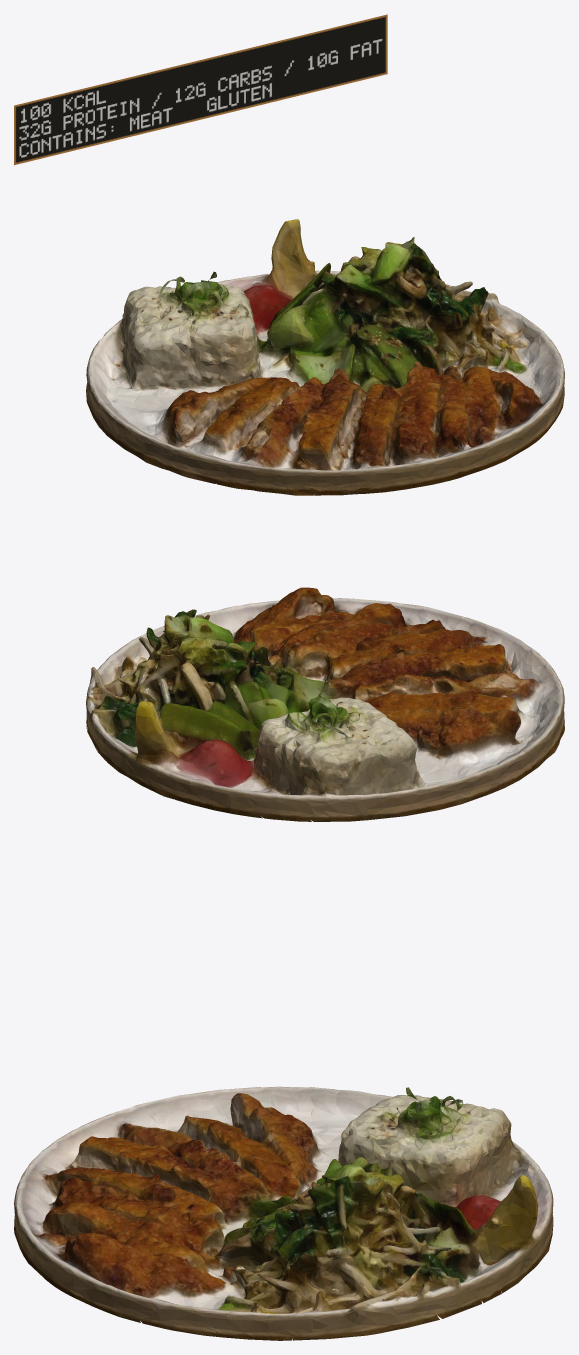
3 views of the same model, one above another, from view 1: azimuth 30°, elevation 25°; view 2: azimuth 150°, elevation 25°; view 3: azimuth 270°, elevation 25° (orthographic). The views are drawn at different scales.
Visible parts, largest first — view 1: geom, nutrition-panel-node; view 2: geom; view 3: geom.
Boxes of the visible parts, x1,y1,x2,y2 form: geom: (86,219,564,495); nutrition-panel-node: (14,14,387,165); geom: (86,587,564,821); geom: (14,1086,553,1340).
Bounding box in the file's own units: 0.2663 × 0.1489 × 0.2716.
2 materials, 2 textured.
